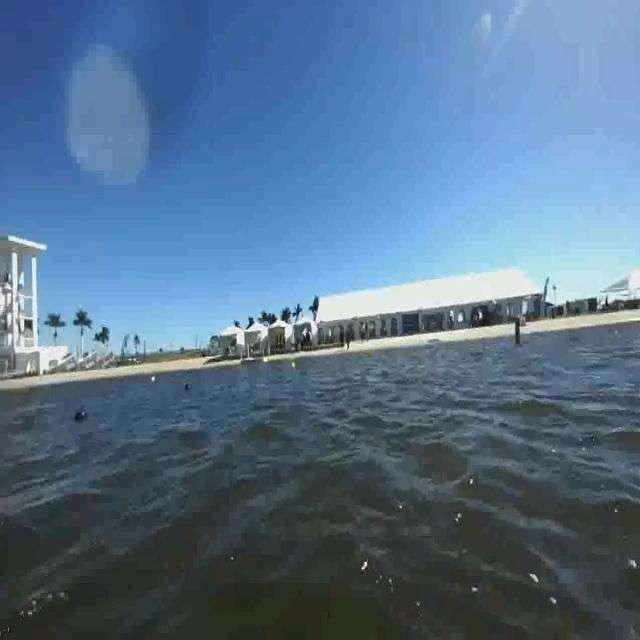black-buoy: (73, 406, 87, 422)
